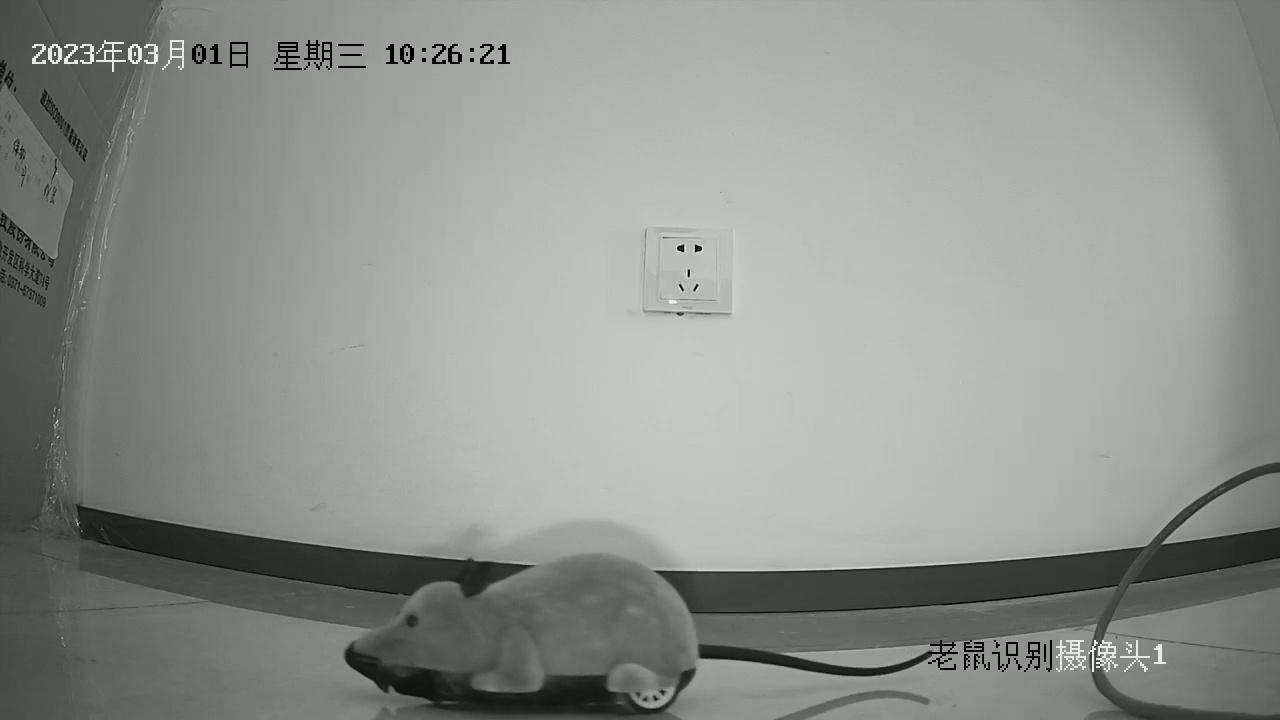rat: (343, 553, 931, 711)
